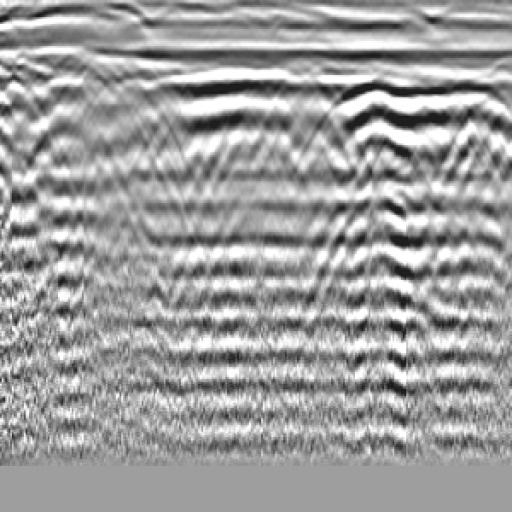non-metallic: (323, 62, 512, 378)
